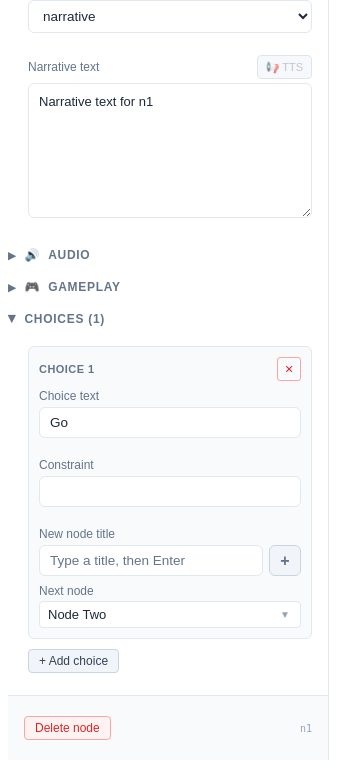
CompanionPanel — NodeComboField (next node) › closing when focus leaves › closes the list and restores the chosen title when another field is clicked
The image size is (346, 768).
(page scrolled)
Replace the text in the dropdown labelled "Next node" with "No" at (170, 614), box [39,601,301,628]
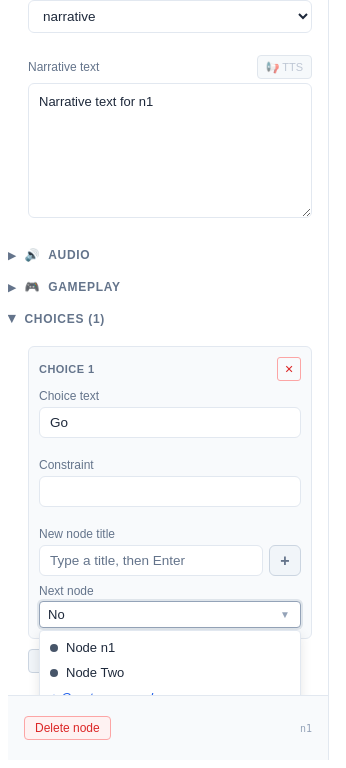
Click the field labelled "Choice text" at (170, 422), box [39,407,301,438]
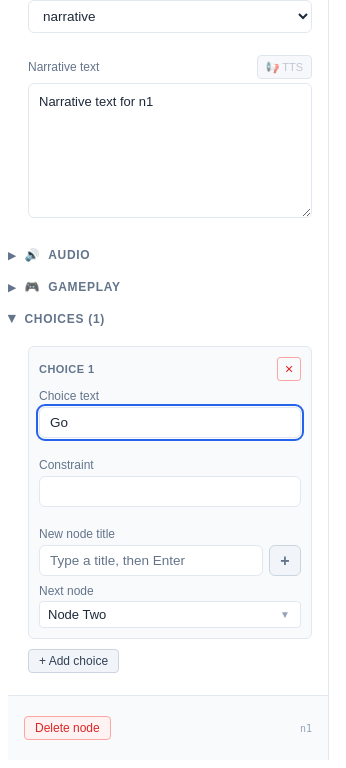
Expected: the dropdown labelled "Next node" is collapsed, [39,601,301,628]
Expected: the dropdown labelled "Next node" holds "Node Two", [39,601,301,628]
